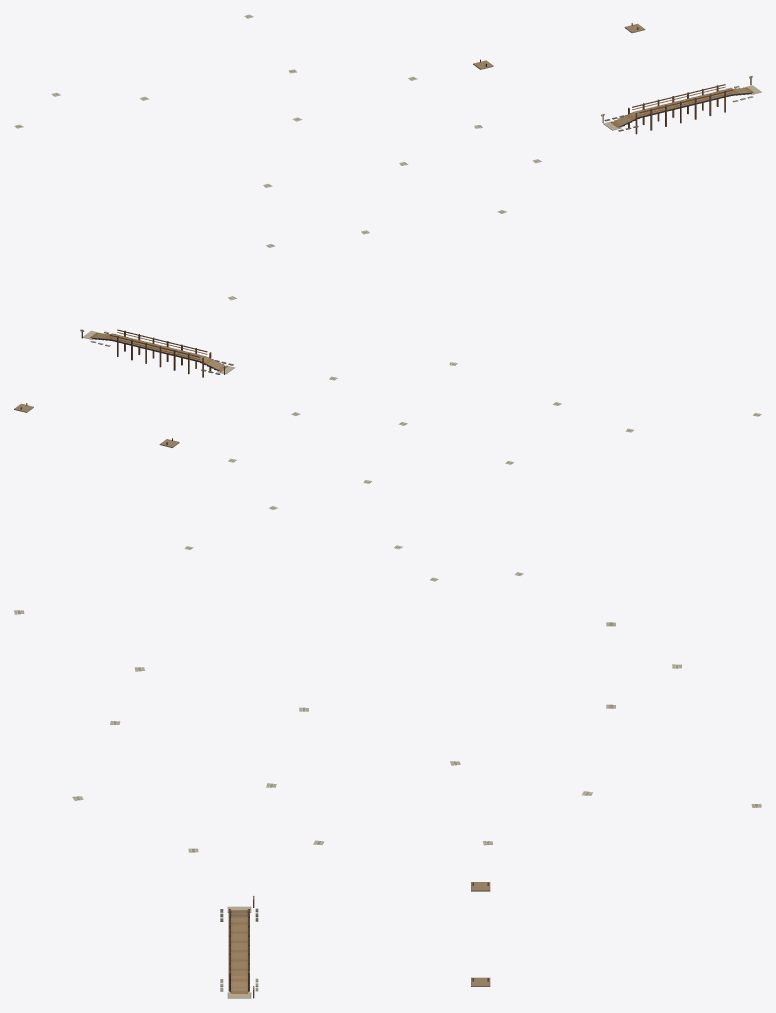
Rendered from HWA02_Infraestrutura_S05.glb.
3 renders of one model, top to bottom at view 1: azimuth 30°, elevation 25°; view 2: azimuth 150°, elevation 25°; view 3: azimuth 270°, elevation 25°, orthographic. The views are drawn at different scales.
Parts seen in each view (by area): view 1: INFRA_WALK_PedestrianBridge, INFRA_DECOR_BridgeBracing, INFRA_COLLIDE_BridgeRailings; view 2: INFRA_WALK_PedestrianBridge, INFRA_DECOR_BridgeBracing, INFRA_COLLIDE_BridgeRailings; view 3: INFRA_WALK_PedestrianBridge, INFRA_WALK_Thresholds, INFRA_WALK_Landings.
Boxes of the visible parts, <box> form: INFRA_WALK_PedestrianBridge: <box>611,87,753,127</box>; INFRA_DECOR_BridgeBracing: <box>480,23,752,134</box>; INFRA_COLLIDE_BridgeRailings: <box>628,84,733,115</box>; INFRA_WALK_PedestrianBridge: <box>90,333,227,371</box>; INFRA_DECOR_BridgeBracing: <box>20,329,227,444</box>; INFRA_COLLIDE_BridgeRailings: <box>110,329,211,359</box>; INFRA_WALK_PedestrianBridge: <box>231,910,247,993</box>; INFRA_WALK_Thresholds: <box>14,610,761,852</box>; INFRA_WALK_Landings: <box>227,882,490,998</box>.
Bounding box in the file's own units: 166 × 5.49 × 136.
1 material, 1 textured.
